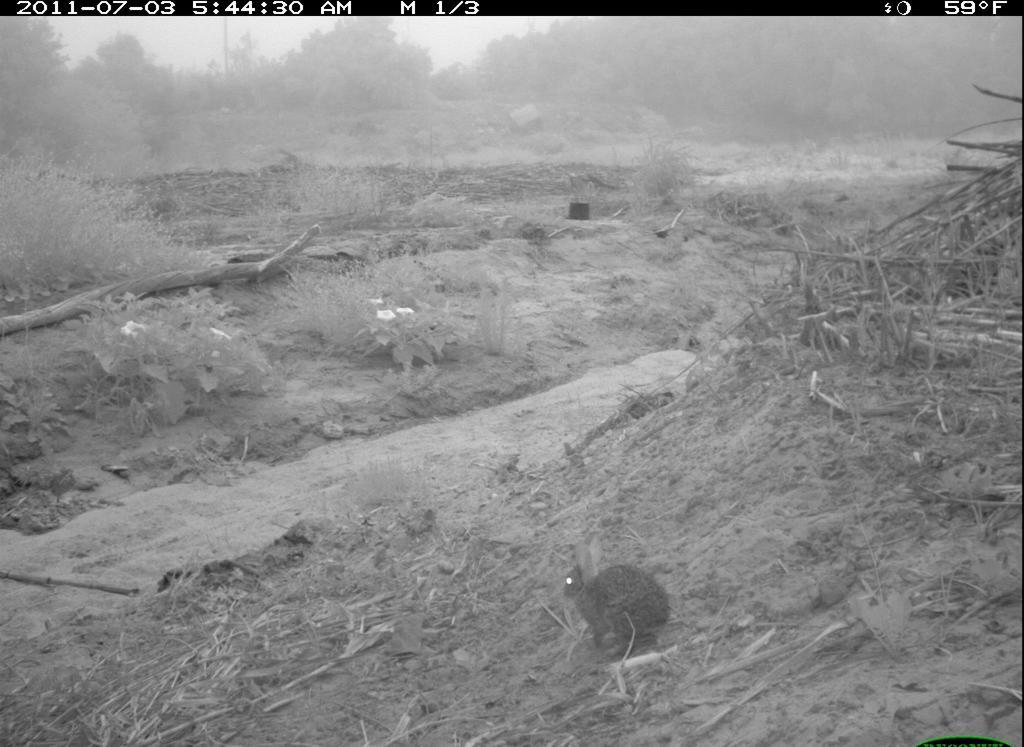rabbit: (556, 537, 676, 666)
